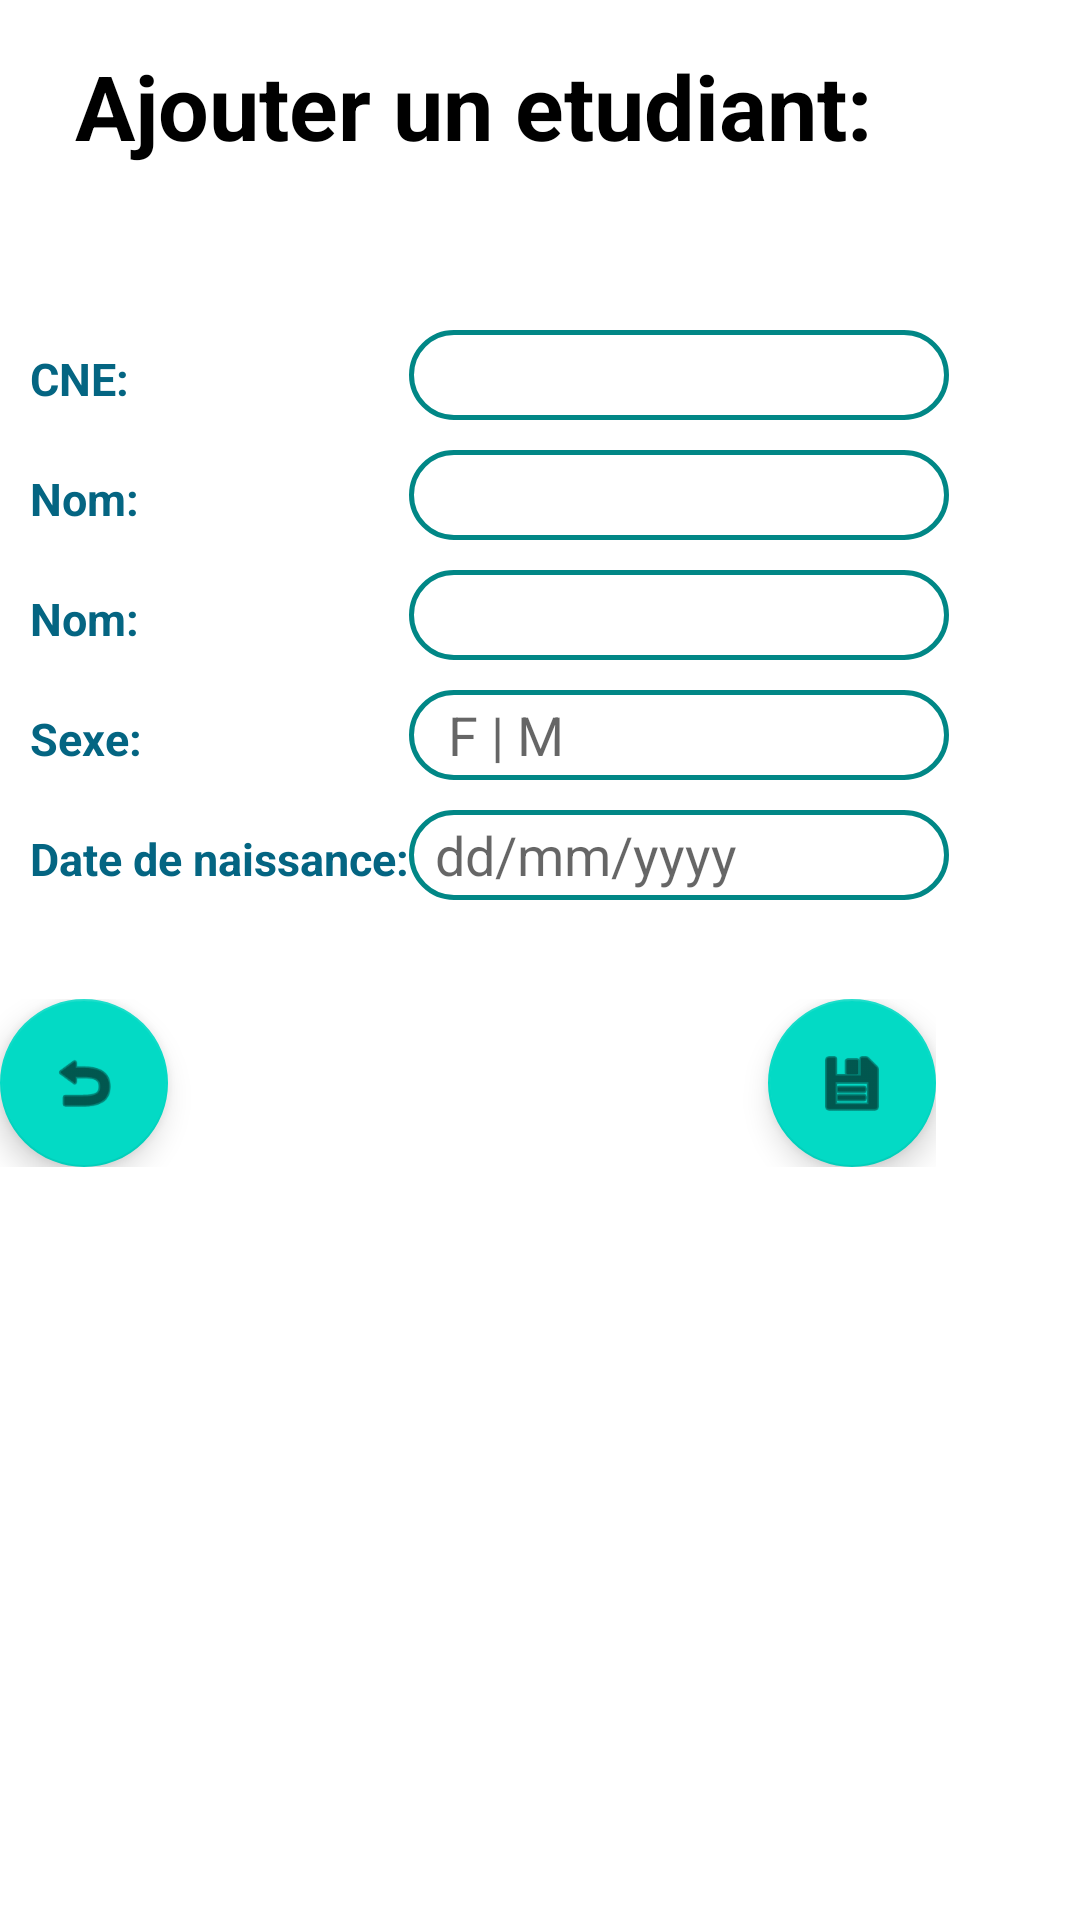

Icons on this 1080w x 1920h Android screen, each with the point to tap as [x,y]:
revert: [84,1083]
save: [852,1083]
